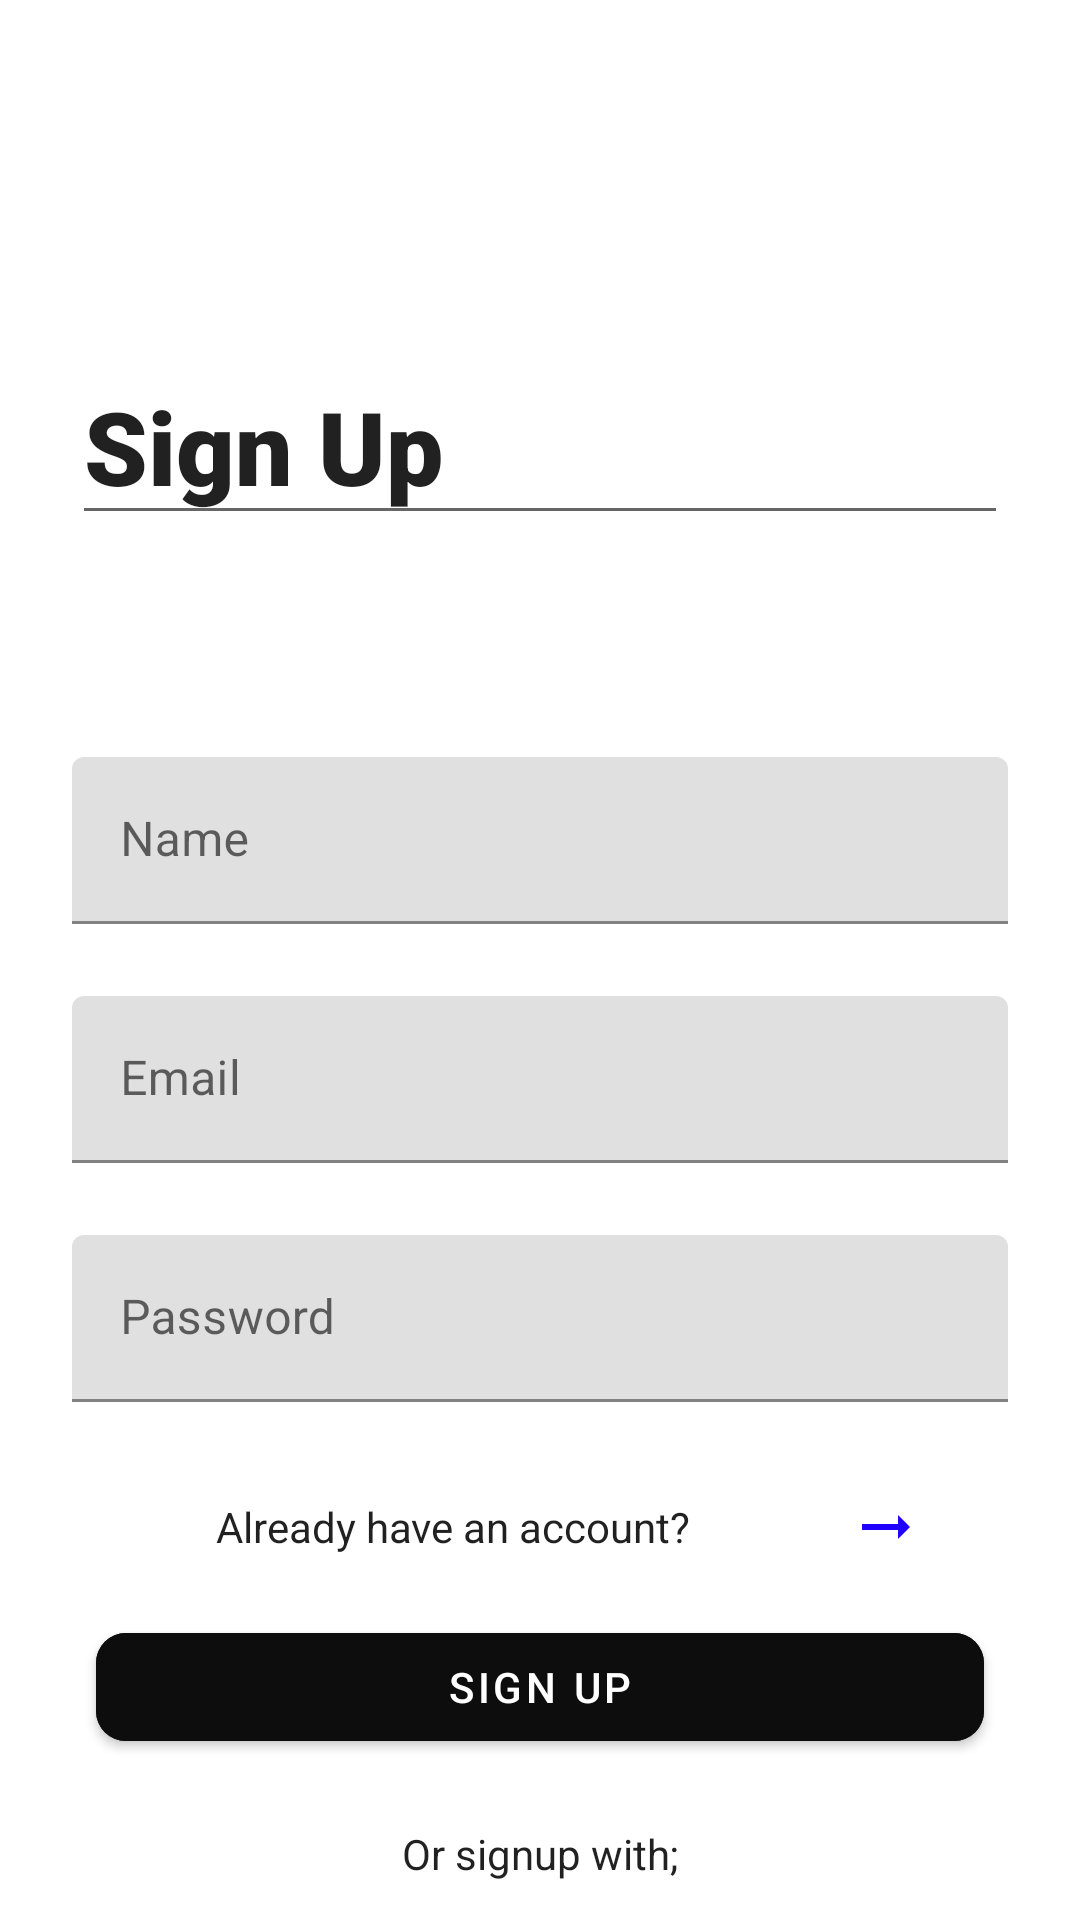

Point at icon controls on the screen. Image size 1080x1920, points as [x,y].
arrow right: [886,1527]
